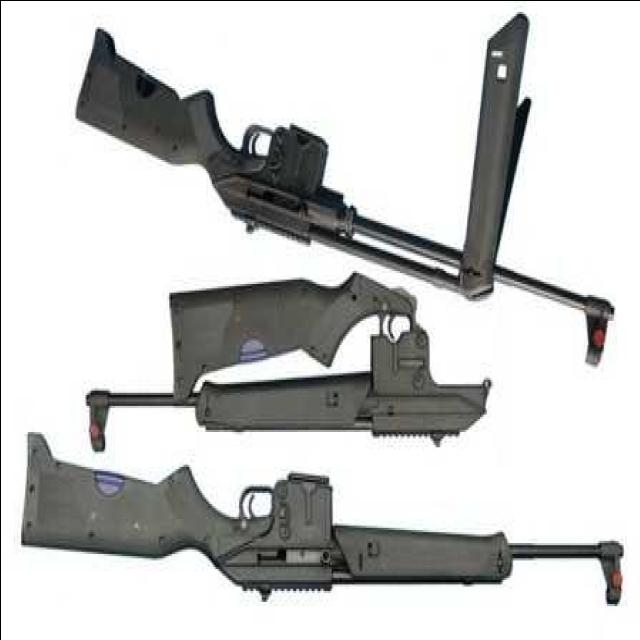heavyweapon: (73, 10, 626, 393), (17, 423, 631, 640), (71, 275, 505, 489)
